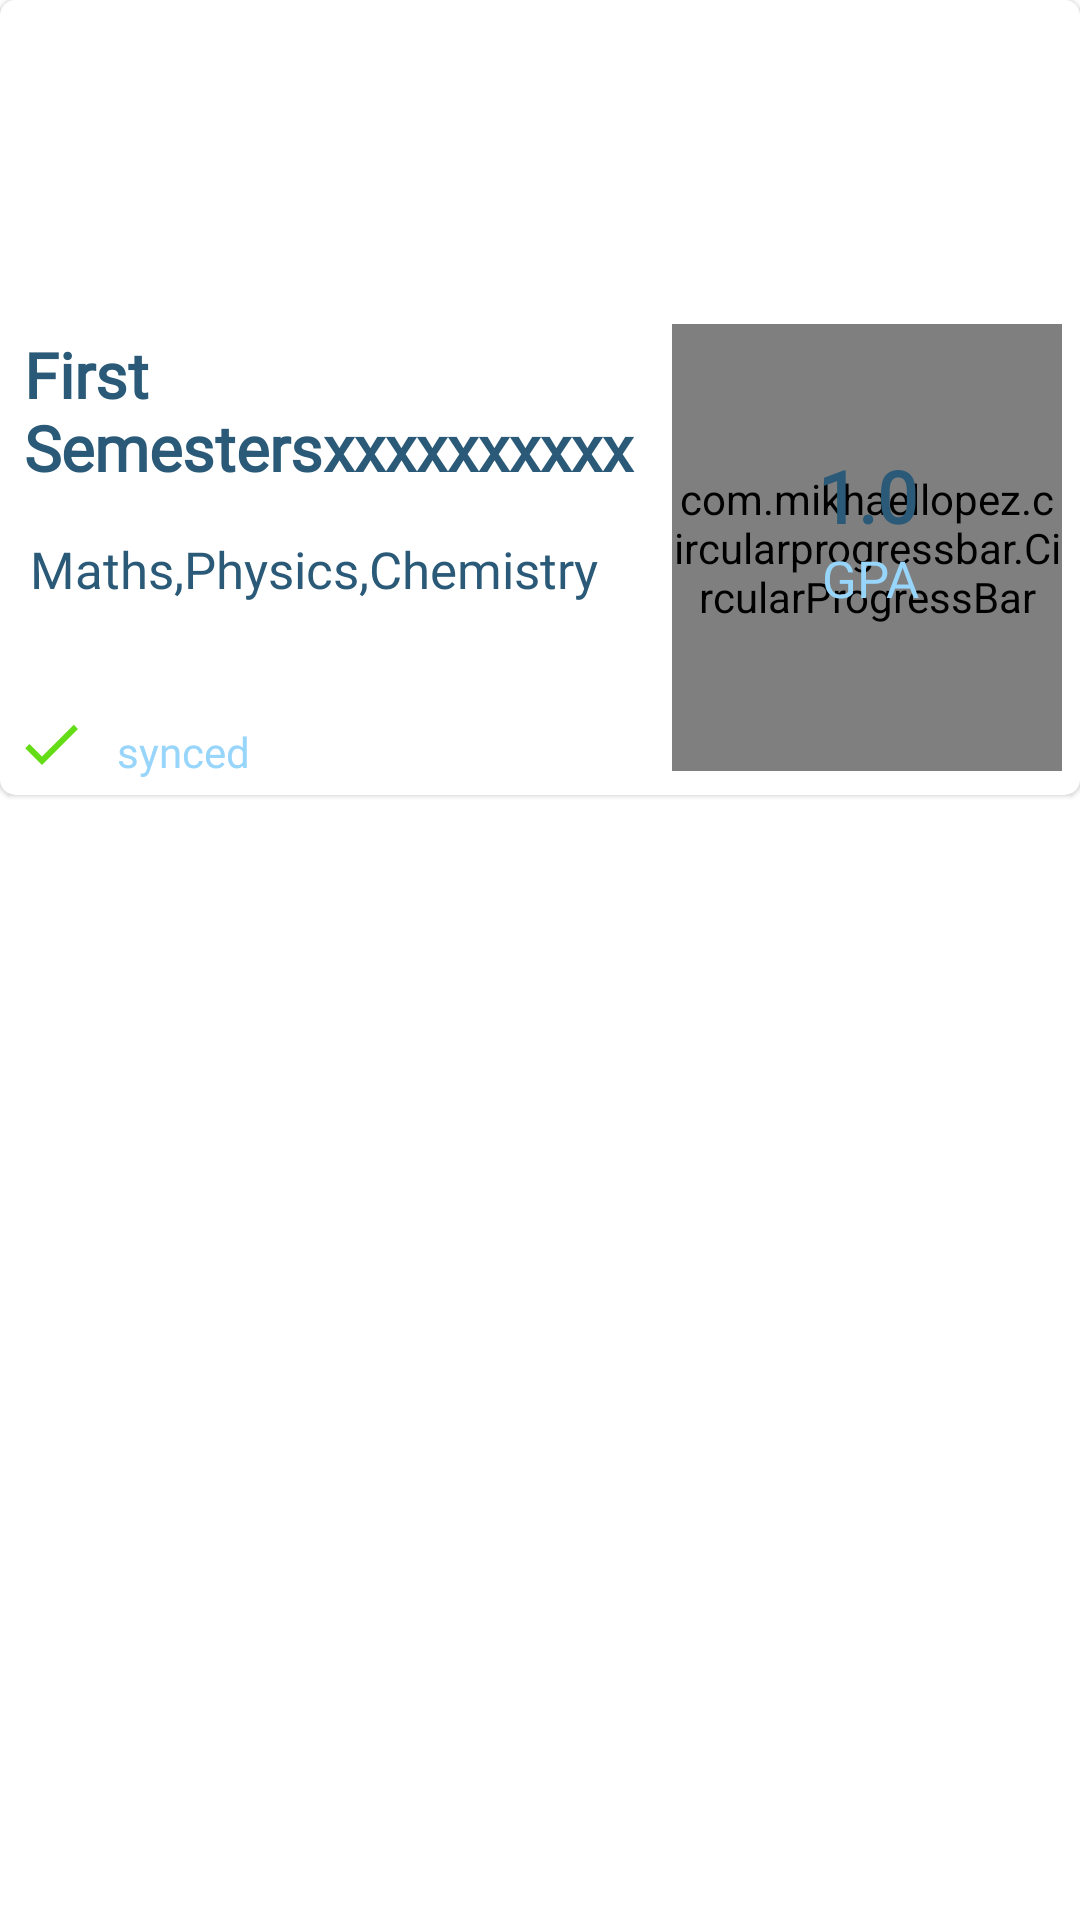

Icons on this 1080px×1920px Android screen, each with the point to tap as [x,y]:
check: [51,745]
